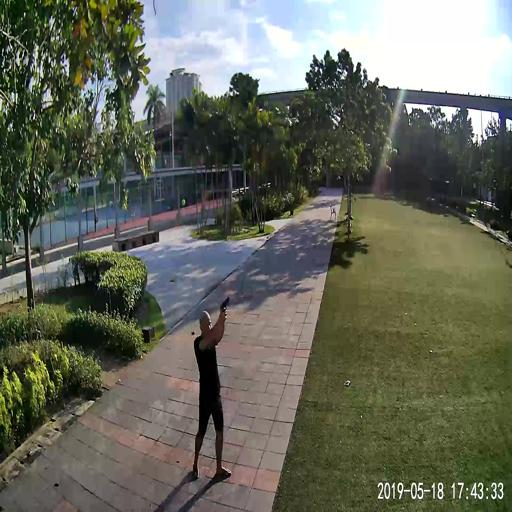pistol: (219, 294, 230, 315)
